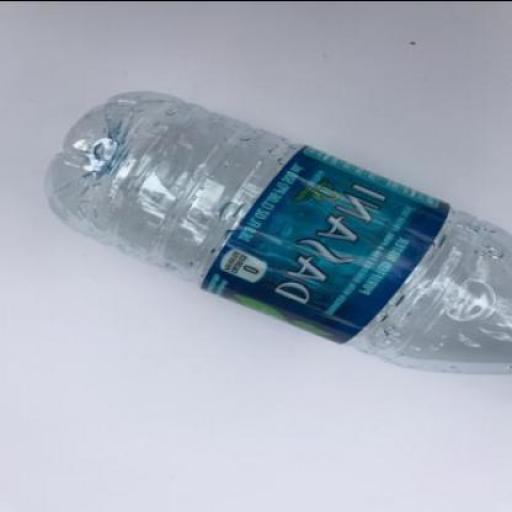plastic: (46, 91, 510, 375), (201, 146, 455, 346)
